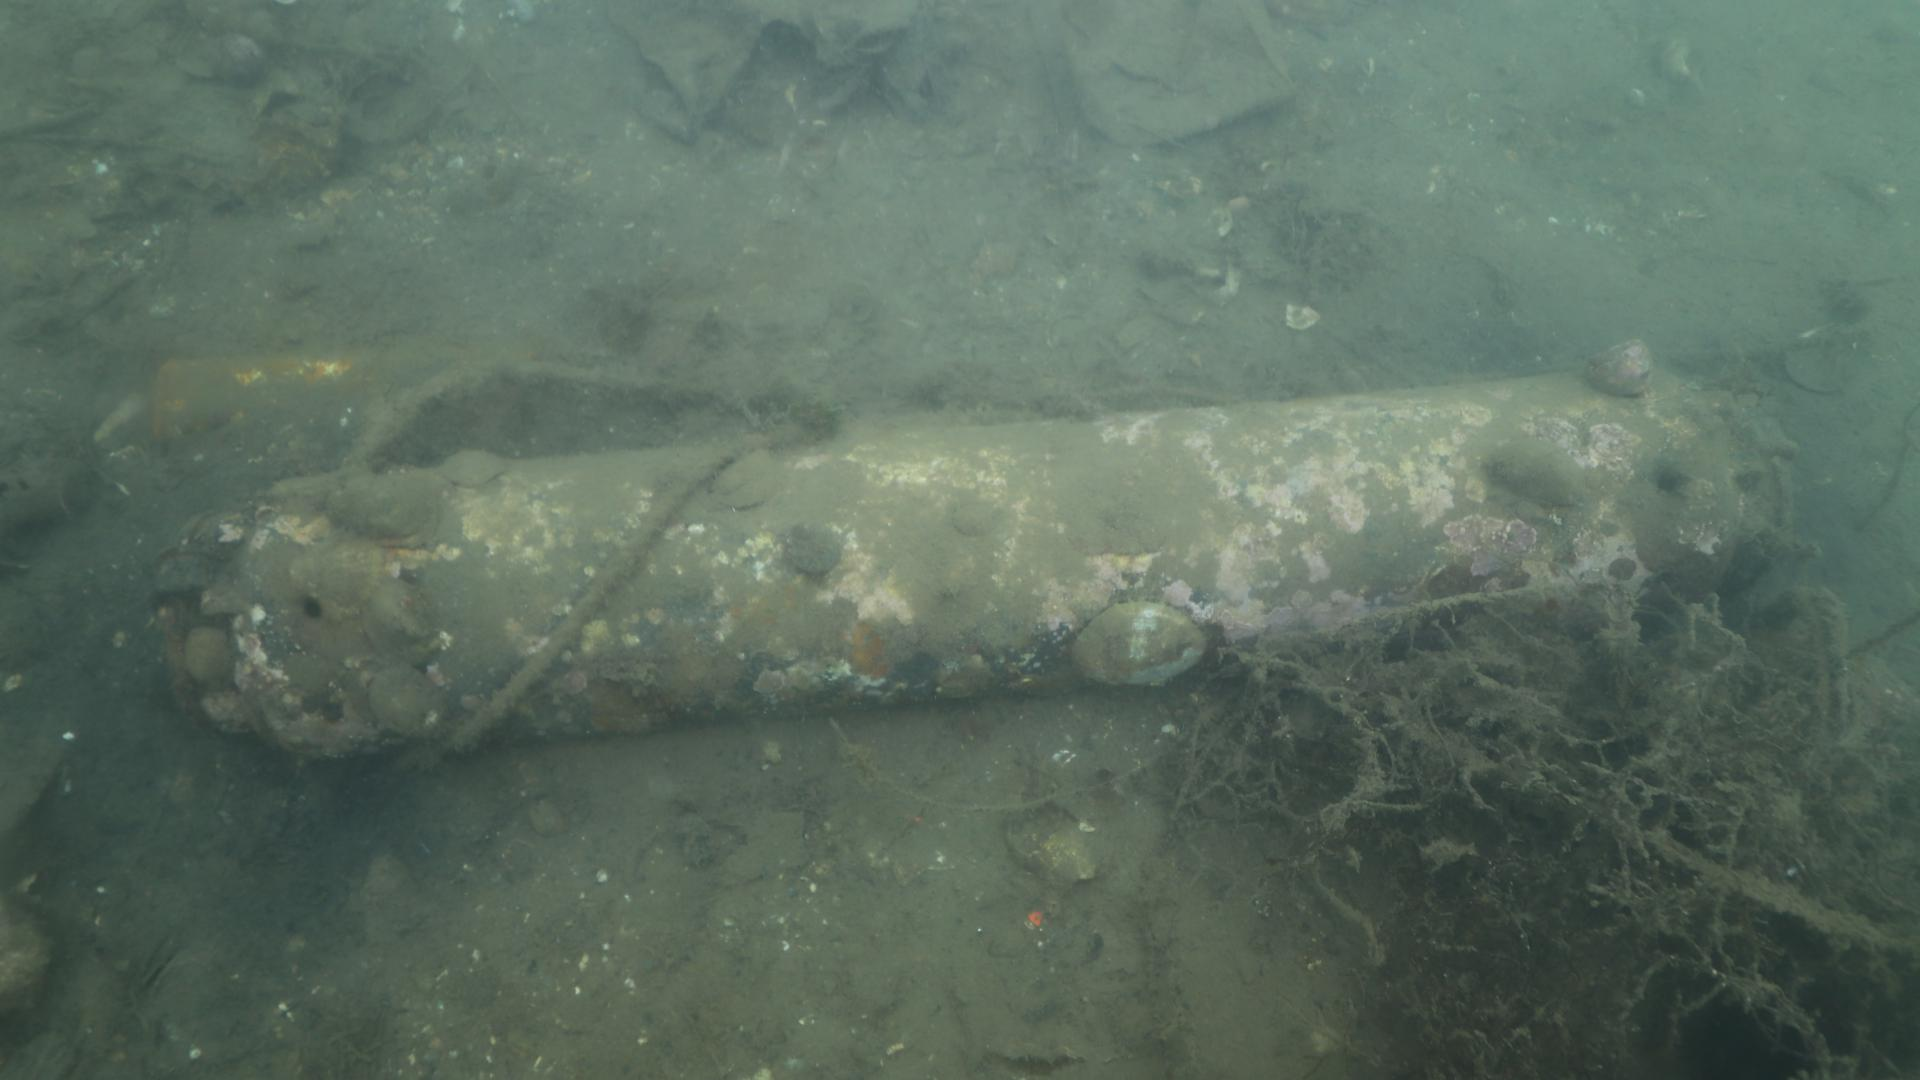eel fish trap: (177, 371, 1793, 753)
rope: (436, 434, 756, 749)
